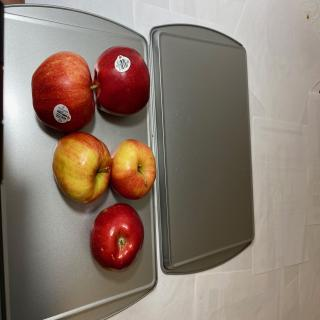Apple: (31, 51, 96, 132), (52, 131, 112, 204), (93, 46, 150, 116), (90, 202, 144, 272), (110, 139, 156, 200)
